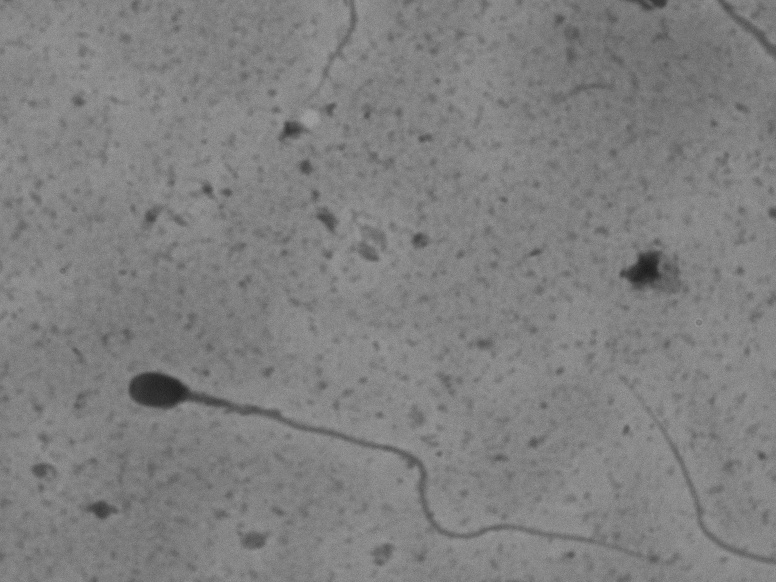Normal: (116, 356, 646, 569)
